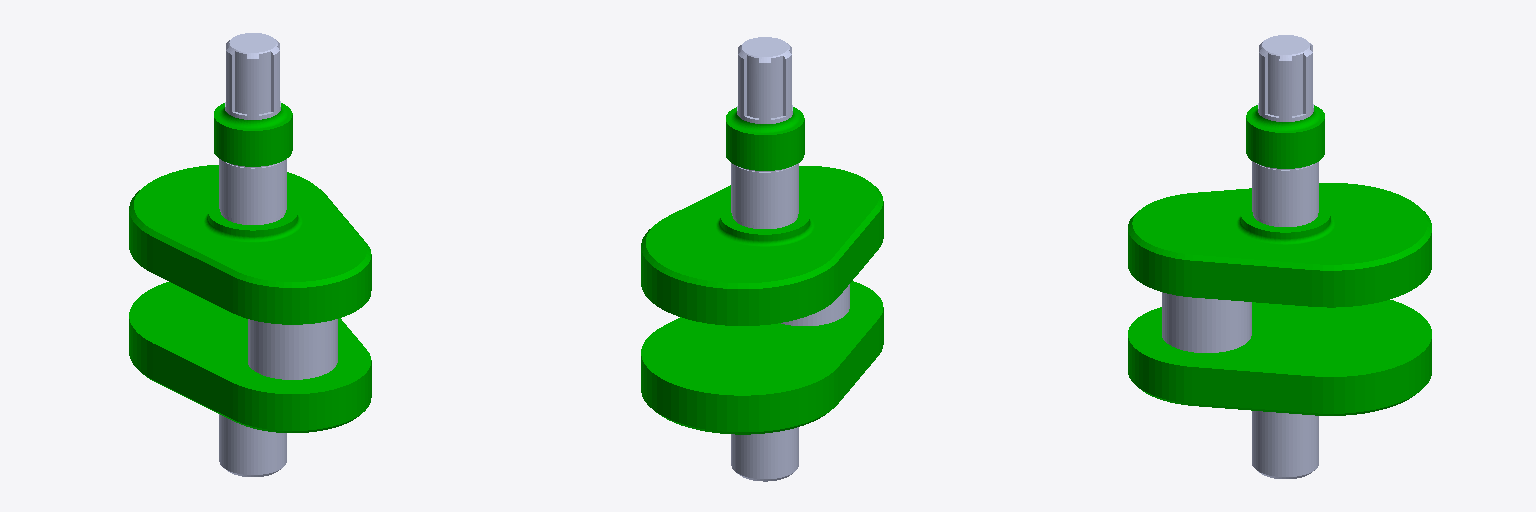
File: Cam.obj
3 views of the same model, side by side, from view 1: azimuth 30°, elevation 25°; view 2: azimuth 150°, elevation 25°; view 3: azimuth 270°, elevation 25° (orthographic).
Parts seen in each view (by area): view 1: mesh18, mesh6, mesh3, mesh16, mesh0, mesh28, mesh32, mesh4, mesh15, mesh36, mesh39, mesh22 (+10 smaller); view 2: mesh6, mesh18, mesh14, mesh1, mesh28, mesh32, mesh36, mesh39, mesh15, mesh4, mesh21, mesh0 (+7 smaller); view 3: mesh6, mesh18, mesh0, mesh1, mesh2, mesh17, mesh14, mesh32, mesh28, mesh36, mesh16, mesh3 (+10 smaller).
Boxes of the visible parts, box(x1,y1,x2,y2) form: mesh18: box(134, 165, 366, 281); mesh6: box(129, 282, 371, 393); mesh3: box(233, 361, 371, 430); mesh16: box(233, 255, 371, 324); mesh0: box(248, 319, 337, 379); mesh28: box(219, 159, 286, 221); mesh32: box(219, 414, 286, 474); mesh4: box(153, 344, 232, 418); mesh15: box(153, 237, 232, 312); mesh36: box(214, 115, 292, 166); mesh39: box(225, 51, 280, 119); mesh22: box(233, 241, 371, 287); mesh6: box(641, 281, 883, 395); mesh18: box(646, 166, 878, 282); mesh14: box(641, 250, 837, 325); mesh1: box(641, 356, 837, 431); mesh28: box(731, 163, 798, 225); mesh32: box(731, 427, 798, 478); mesh36: box(726, 120, 804, 170); mesh39: box(737, 55, 792, 123); mesh15: box(838, 213, 878, 296); mesh4: box(838, 319, 878, 403); mesh21: box(641, 229, 837, 288); mesh0: box(781, 284, 849, 325); mesh6: box(1128, 300, 1431, 376); mesh18: box(1132, 183, 1427, 264); mesh0: box(1162, 292, 1251, 352); mesh1: box(1312, 339, 1431, 413); mesh2: box(1192, 367, 1311, 412); mesh17: box(1192, 261, 1311, 306); mesh14: box(1312, 233, 1431, 307); mesh32: box(1252, 411, 1318, 476); mesh28: box(1252, 161, 1318, 223); mesh36: box(1246, 118, 1324, 168); mesh16: box(1128, 232, 1191, 296); mesh3: box(1128, 338, 1191, 403).
Bounding box in the file's own units: 0.09 × 0.2065 × 0.1349.